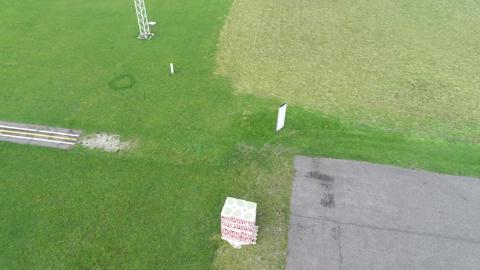RockwoolPallet: (220, 195, 258, 242)
